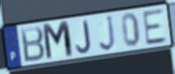0: (120, 11, 142, 50)
B: (19, 25, 46, 64)
E: (142, 7, 169, 48)
J: (98, 13, 118, 53), (75, 19, 93, 55)
M: (41, 19, 76, 63)
